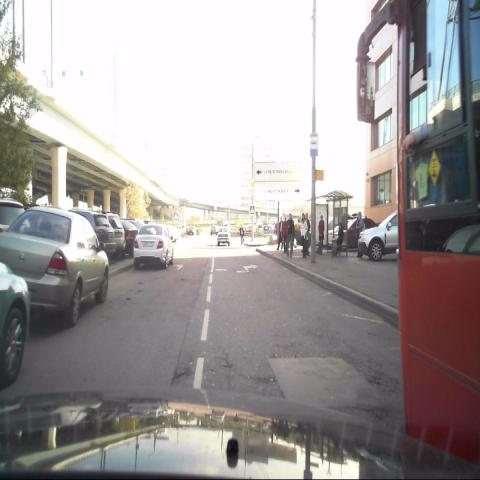5_16: (309, 131, 318, 157)
